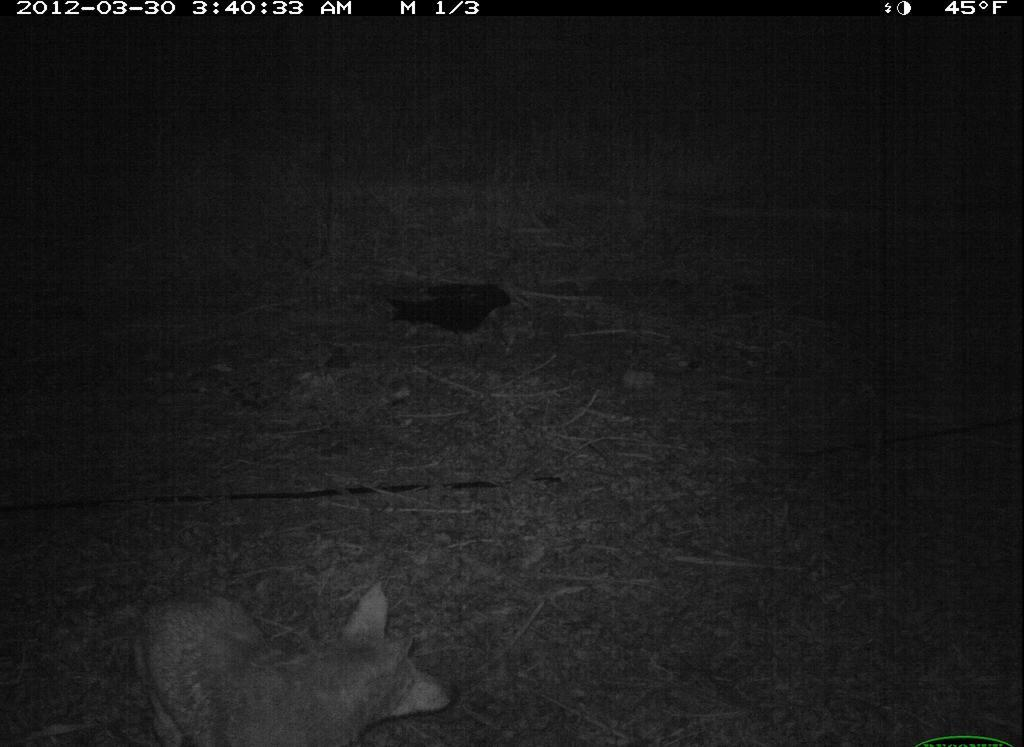coyote: (66, 550, 468, 744)
